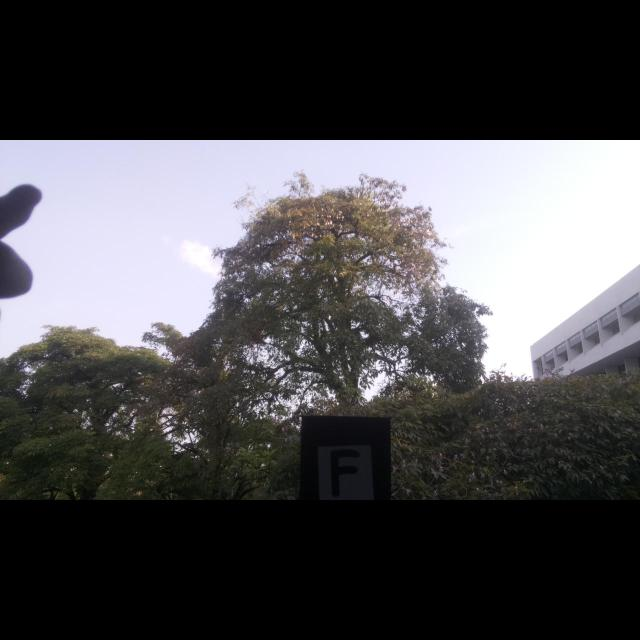F: (330, 449, 360, 497)
